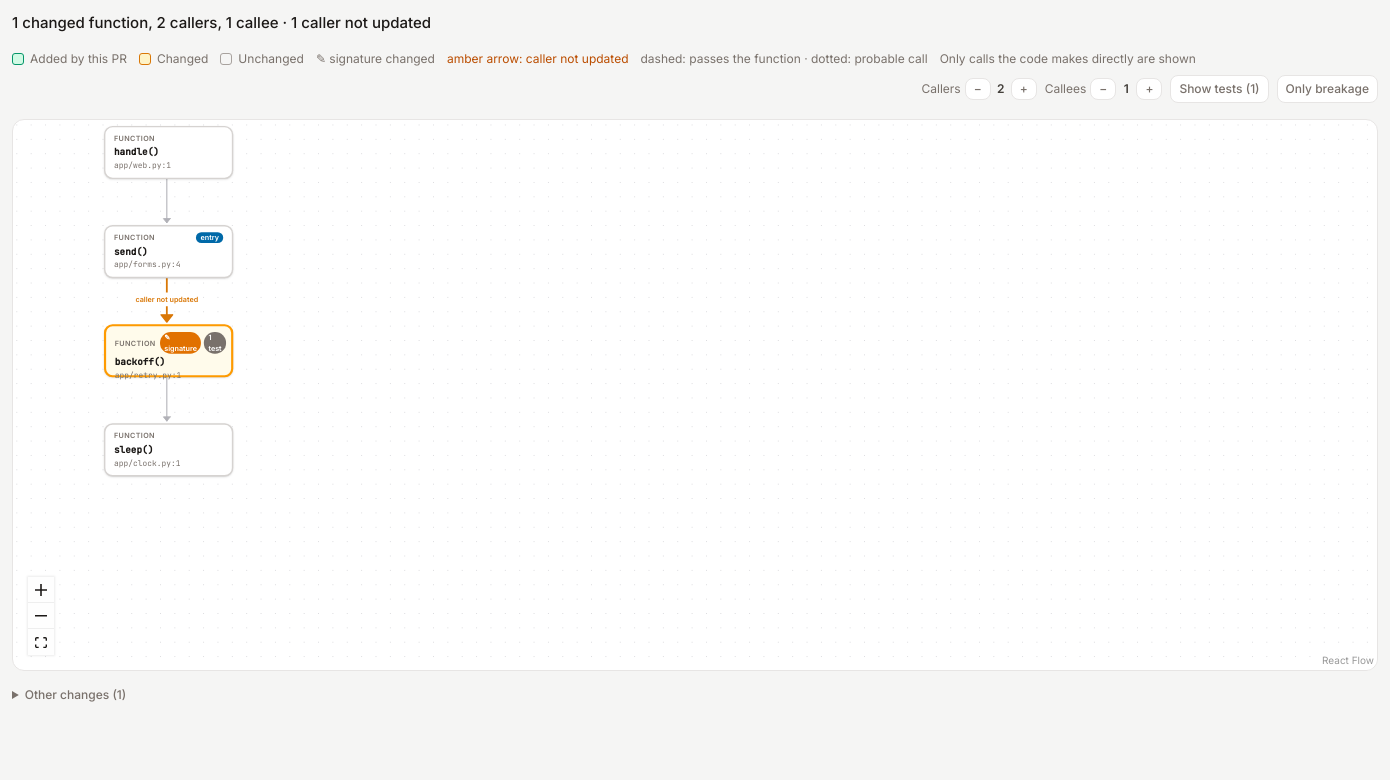
Test: only breakage keeps the changed signature and the callers that weren't updated
Click the button "Only breakage" at (1327, 88), box [1276, 74, 1378, 102]
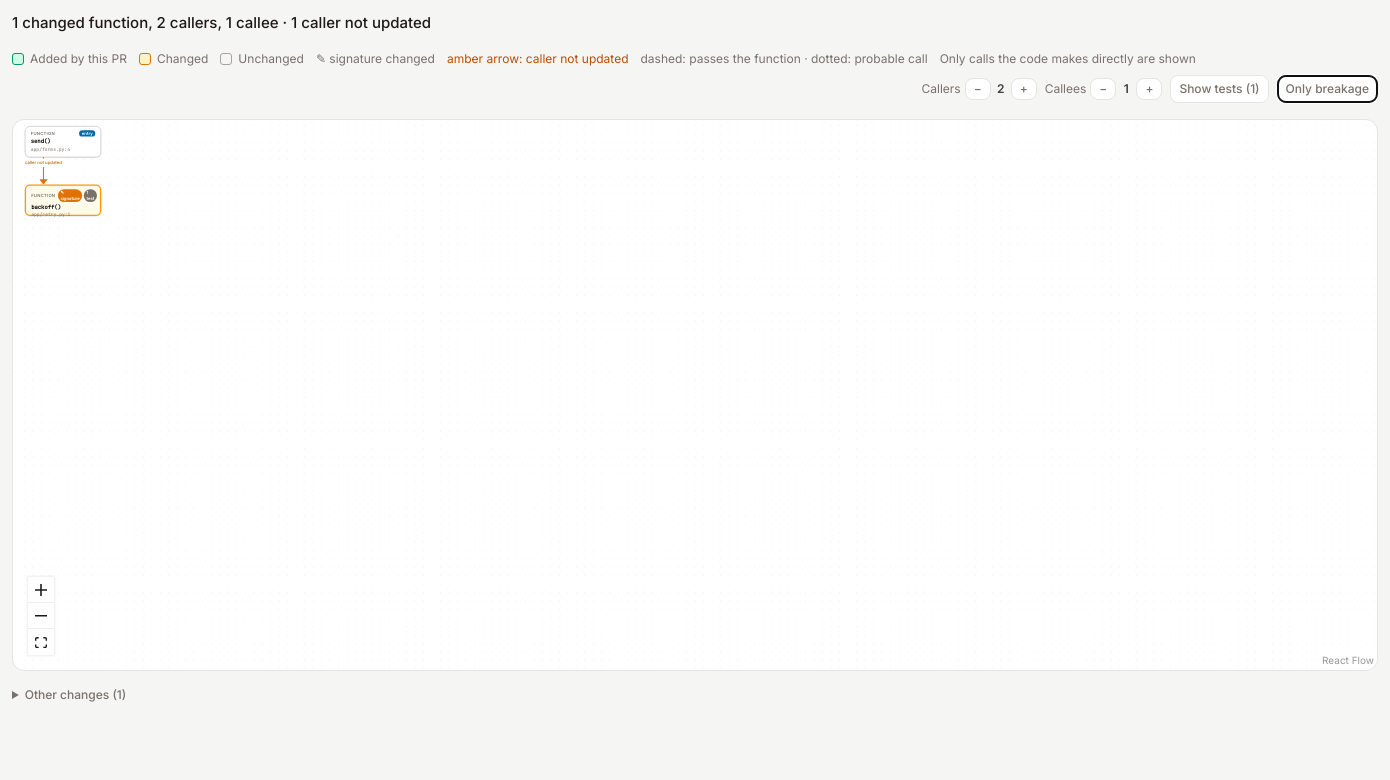
Expected: the text "send()" is shown, [31, 137, 51, 145]
Expected: the button "sleep()" is gone
